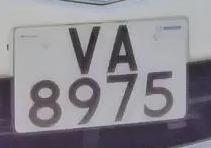5: (137, 63, 182, 123)
7: (104, 69, 146, 127)
8: (21, 71, 67, 134)
9: (61, 71, 107, 130)
A: (102, 22, 144, 75)
V: (62, 20, 104, 80)
